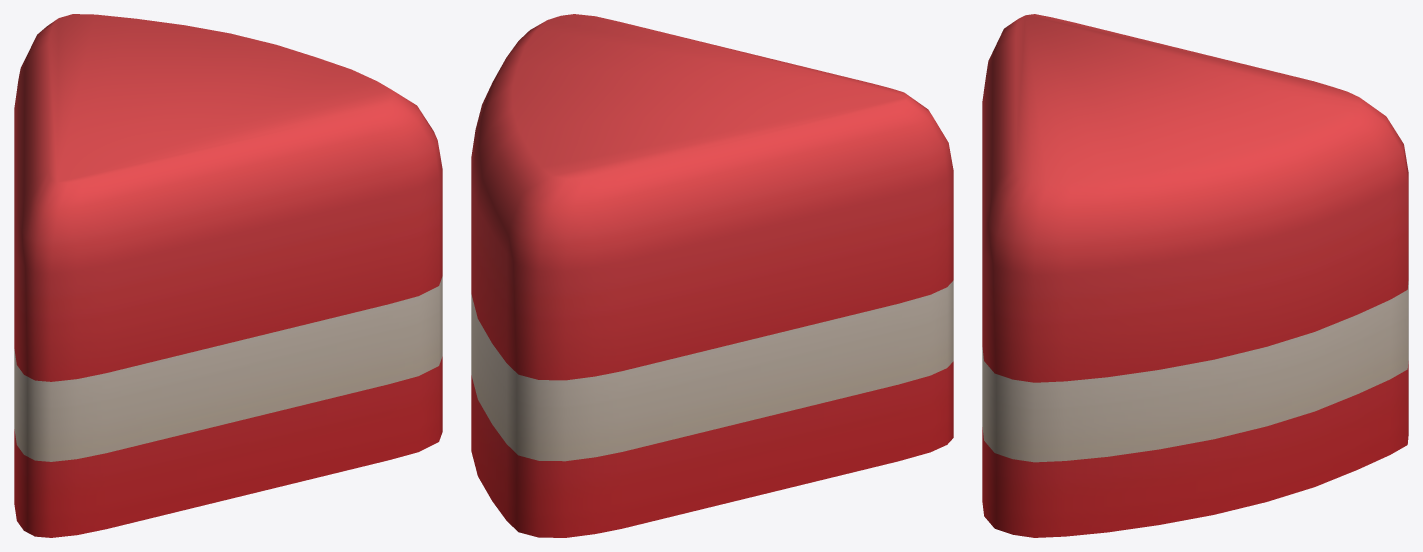
File: cake02_slice.FBX
The picture shows the model from 3 angles, left to right: view 1: azimuth 30°, elevation 25°; view 2: azimuth 150°, elevation 25°; view 3: azimuth 270°, elevation 25°; orthographic projection.
Visible parts, largest first — view 1: cake02_slice; view 2: cake02_slice; view 3: cake02_slice.
Part boxes in pixels (left/top/right/bottom): cake02_slice: left=14, top=14, right=442, bottom=537; cake02_slice: left=471, top=14, right=953, bottom=537; cake02_slice: left=982, top=14, right=1408, bottom=537.
Bounding box in the file's own units: 0.00904 × 0.00692 × 0.00796.
